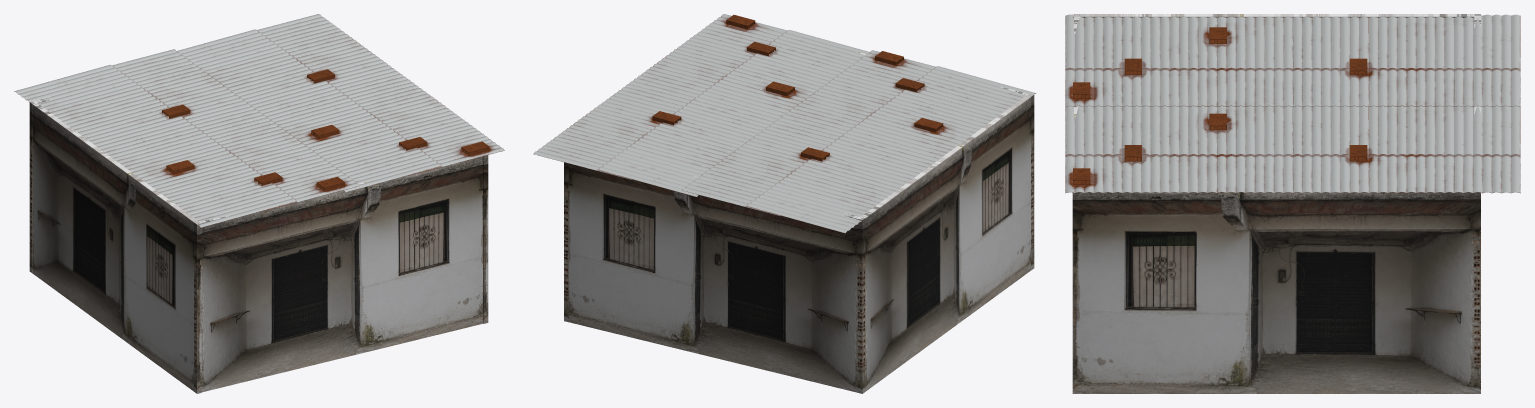
The model's file is casa_2_derecha_07.fbx.
3 renders of one model, left to right at view 1: azimuth 30°, elevation 25°; view 2: azimuth 150°, elevation 25°; view 3: azimuth 270°, elevation 25°, orthographic. The views are drawn at different scales.
Visible parts, largest first — view 1: Techo_07, casa_camino2_derecha_07.002, casa_camino2_derecha_07.004, casa_camino2_derecha_07.001, casa_camino2_derecha_07.003; view 2: Techo_07, casa_camino2_derecha_07.003, casa_camino2_derecha_07.004, casa_camino2_derecha_07.001, casa_camino2_derecha_07.002; view 3: casa_camino2_derecha_07.001, Techo_07, casa_camino2_derecha_07.004.
Part boxes in pixels (x1=…): Techo_07: x1=14, y1=14, x2=504, y2=227; casa_camino2_derecha_07.002: x1=194, y1=156, x2=482, y2=393; casa_camino2_derecha_07.004: x1=32, y1=103, x2=201, y2=393; casa_camino2_derecha_07.001: x1=483, y1=155, x2=488, y2=323; casa_camino2_derecha_07.003: x1=29, y1=62, x2=201, y2=273; Techo_07: x1=533, y1=14, x2=1036, y2=233; casa_camino2_derecha_07.003: x1=568, y1=163, x2=865, y2=393; casa_camino2_derecha_07.004: x1=857, y1=93, x2=1034, y2=393; casa_camino2_derecha_07.001: x1=564, y1=162, x2=568, y2=322; casa_camino2_derecha_07.002: x1=850, y1=50, x2=1033, y2=270; casa_camino2_derecha_07.001: x1=1072, y1=192, x2=1480, y2=393; Techo_07: x1=1065, y1=14, x2=1520, y2=193; casa_camino2_derecha_07.004: x1=1072, y1=14, x2=1474, y2=17.
Size of the model in its own units: 532 by 293 by 564.
